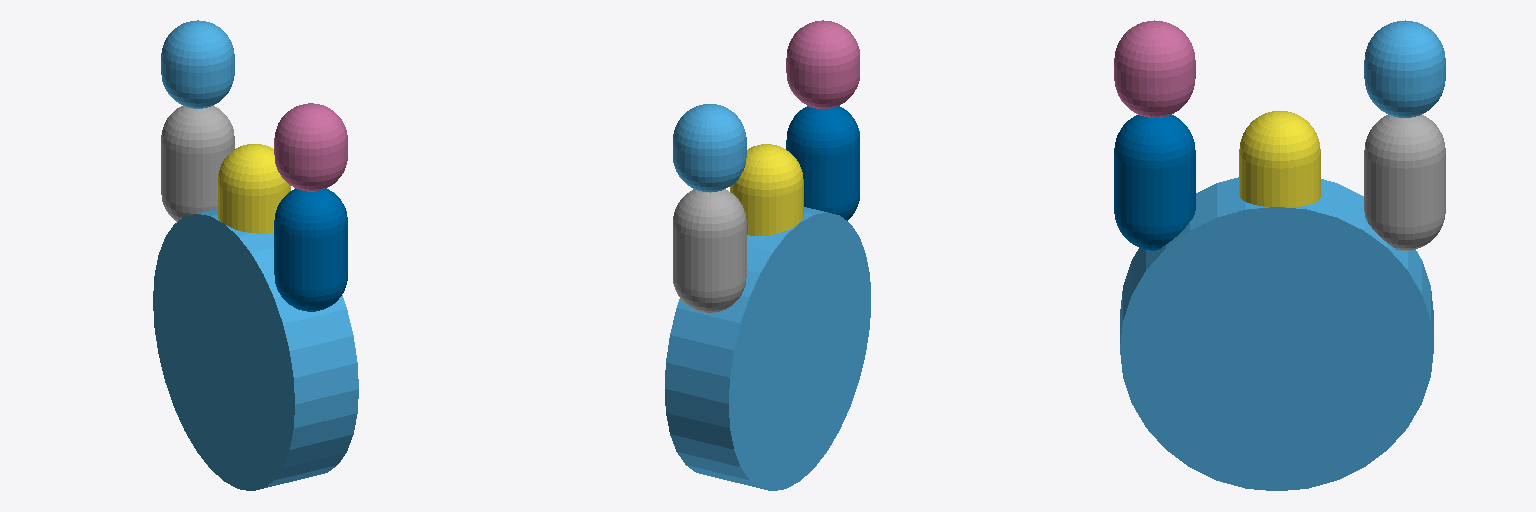
robot.urdf — DexterousHand:
<?xml version="1.0"?>
<robot name="DexterousHand">


    <link name="world"/>
    <joint name="world_to_palm" type="fixed">
        <parent link="world"/>
        <child link="palm"/>
        <origin xyz="0 0 0" rpy="0 0 0"/>
    </joint>
    <link name="palm">
        <inertial>
            <origin xyz="0 0 0.057" rpy="0 0 0"/>
            <mass value="0.30212892864"/>
            <inertia ixx="0.00049080844457568" ixy="0.0" ixz="0.0" iyy="0.00026746366246427523" iyz="0.0" izz="0.00026746366246427523"/>
        </inertial>
        <visual>
            <origin xyz="0 0 0.057" rpy="1.5708 0 1.5708"/>
            <geometry>
                <cylinder radius="0.057" length="0.0296"/>
            </geometry>
            <material name="default"/>
        </visual>
        <collision>
            <origin xyz="0 0 0.057" rpy="1.5708 0 1.5708"/>
            <geometry>
                <cylinder radius="0.057" length="0.0296"/>
            </geometry>
        </collision>
    </link>

    
    <joint name="thumb_joint1" type="revolute">
        <parent link="palm"/>
        <child link="thumb_base"/>
        <origin xyz="0.0 0.0 0.0" rpy="0.0 0.0 0.0"/>
        <axis xyz="1 0 0"/>
        <limit lower="0.0" upper="0.0" effort="1.0" velocity="1.0"/>
    </joint>

    <link name="thumb_base"></link>

    <joint name="thumb_joint2" type="revolute">
        <parent link="thumb_base"/>
        <child link="thumb_proximal"/>
        <origin xyz="0.0 0.0 0.0" rpy="0.0 0.0 0.0"/>
        <axis xyz="0 1 0"/>
        <limit lower="0.0" upper="0.0" effort="1.0" velocity="1.0"/>
    </joint>

    <link name="thumb_proximal">
    </link>

    <joint name="thumb_joint3" type="revolute">
        <parent link="thumb_proximal"/>
        <child link="thumb_knuckle"/>
        <origin xyz="0.0 0.0 0.0" rpy="0.0 0.0 0.0"/>
        <axis xyz="1 0 0"/>
        <limit lower="0.0" upper="0.0" effort="1.0" velocity="1.0"/>
    </joint>

    <link name="thumb_knuckle"></link>

    <joint name="thumb_joint4" type="revolute">
        <parent link="thumb_knuckle"/>
        <child link="thumb_middle"/>
        <origin xyz="0 0 0" rpy="0 0 0"/> 
        <axis xyz="0 1 0"/>
        <limit lower="0.0" upper="0.0" effort="1.0" velocity="1.0"/>
    </joint>

    <link name="thumb_middle">
    </link>

    <joint name="thumb_joint5" type="revolute">
        <parent link="thumb_middle"/>
        <child link="thumb_distal"/>
        <origin xyz="0 0 0" rpy="0 0 0"/> 
        <axis xyz="0 1 0"/>
        <limit lower="0.0" upper="0.0" effort="1.0" velocity="1.0"/>
    </joint>

    <link name="thumb_distal">
    </link>

    
    <joint name="index_joint1" type="revolute">
        <parent link="palm"/>
        <child link="index_proximal"/>
        <origin xyz="0.0 0.0465 0.091" rpy="0.0 0.0 0.0"/>
        <axis xyz="0 1 0"/>
        <limit lower="-0.314" upper="2.23" effort="1.0" velocity="1.0"/>
    </joint>

    <link name="index_proximal">
        <inertial>
            <origin xyz="0 0 0.02655" rpy="0 0 0"/>
            <mass value="0.036540024998400006"/>
            <inertia ixx="1.058665009272394e-05" ixy="0.0" ixz="0.0" 
            iyy="1.058665009272394e-05" iyz="0.0" izz="4.001863537824769e-06"/>
        </inertial>
        <visual>
            <origin xyz="0 0 0.02655" rpy="0 0 0"/>
            <geometry>
                <cylinder radius="0.0148" length="0.0235"/>
            </geometry>
            <material name="default"/>
        </visual>
        <visual>
            <origin xyz="0 0 0.0148" rpy="0 0 0"/>
            <geometry>
                <sphere radius="0.0148"/>
            </geometry>
            <material name="default"/>
        </visual>
        <visual>
            <origin xyz="0 0 0.0383" rpy="0 0 0"/>
            <geometry>
                <sphere radius="0.0148"/>
            </geometry>
            <material name="default"/>
        </visual>
        <collision>
            <origin xyz="0 0 0.02655" rpy="0 0 0"/>
            <geometry>
                <cylinder radius="0.0148" length="0.0235"/>
            </geometry>
        </collision>
        <collision>
            <origin xyz="0 0 0.0148" rpy="0 0 0"/>
            <geometry>
                <sphere radius="0.0148"/>
            </geometry>
        </collision>
        <collision>
            <origin xyz="0 0 0.0383" rpy="0 0 0"/>
            <geometry>
                <sphere radius="0.0148"/>
            </geometry>
        </collision>
    </link>

    <joint name="index_joint2" type="revolute">
        <parent link="index_proximal"/>
        <child link="index_dummy"/>
        <origin xyz="0.0 0.0 0.038" rpy="0.0 0.0 0.0"/>
        <axis xyz="1 0 0"/>
        <limit lower="-1.047" upper="1.047" effort="1.0" velocity="1.0"/>
    </joint>

    <link name="index_dummy"></link>

    <joint name="index_joint3" type="revolute">
        <parent link="index_dummy"/>
        <child link="index_middle"/>
        <origin xyz="0 0 0.015100000000000002" rpy="0 0 0"/>
        <axis xyz="0 1 0"/>
        <limit lower="-0.506" upper="1.885" effort="1.0" velocity="1.0"/>
    </joint>

    <link name="index_middle">
        <inertial>
            <origin xyz="0 0 0.01805" rpy="0 0 0"/>
            <mass value="0.0248417119104"/>
            <inertia ixx="4.058162759109537e-06" ixy="0.0" ixz="0.0" 
            iyy="4.058162759109537e-06" iyz="0.0" izz="2.7206642884270085e-06"/>
        </inertial>
        <visual>
            <origin xyz="0 0 0.01805" rpy="0 0 0"/>
            <geometry>
                <cylinder radius="0.0148" length="0.006499999999999999"/>
            </geometry>
            <material name="default"/>
        </visual>
        <visual>
            <origin xyz="0 0 0.0148" rpy="0 0 0"/>
            <geometry>
                <sphere radius="0.0148"/>
            </geometry>
            <material name="default"/>
        </visual>
        <visual>
            <origin xyz="0 0 0.0213" rpy="0 0 0"/>
            <geometry>
                <sphere radius="0.0148"/>
            </geometry>
            <material name="default"/>
        </visual>
        <collision>
            <origin xyz="0 0 0.01805" rpy="0 0 0"/>
            <geometry>
                <cylinder radius="0.0148" length="0.006499999999999999"/>
            </geometry>
        </collision>
        <collision>
            <origin xyz="0 0 0.0148" rpy="0 0 0"/>
            <geometry>
                <sphere radius="0.0148"/>
            </geometry>
        </collision>
        <collision>
            <origin xyz="0 0 0.0213" rpy="0 0 0"/>
            <geometry>
                <sphere radius="0.0148"/>
            </geometry>
        </collision>
    </link>

    <joint name="index_joint4" type="revolute">
        <parent link="index_middle"/>
        <child link="index_distal"/>
        <origin xyz="0 0 0.0361" rpy="0 0 0"/> 
        <axis xyz="0 1 0"/>
        <limit lower="0.0" upper="0.0" effort="1.0" velocity="1.0"/>
    </joint>

    <link name="index_distal">
    </link>

    
    <joint name="middle_joint1" type="revolute">
        <parent link="palm"/>
        <child link="middle_proximal"/>
        <origin xyz="0.0 0.0011 0.091" rpy="0.0 0.0 0.0"/>
        <axis xyz="0 1 0"/>
        <limit lower="-0.314" upper="2.23" effort="1.0" velocity="1.0"/>
    </joint>

    <link name="middle_proximal">
        <inertial>
            <origin xyz="0 0 0.02655" rpy="0 0 0"/>
            <mass value="0.036540024998400006"/>
            <inertia ixx="1.058665009272394e-05" ixy="0.0" ixz="0.0" 
            iyy="1.058665009272394e-05" iyz="0.0" izz="4.001863537824769e-06"/>
        </inertial>
        <visual>
            <origin xyz="0 0 0.02655" rpy="0 0 0"/>
            <geometry>
                <cylinder radius="0.0148" length="0.0235"/>
            </geometry>
            <material name="default"/>
        </visual>
        <visual>
            <origin xyz="0 0 0.0148" rpy="0 0 0"/>
            <geometry>
                <sphere radius="0.0148"/>
            </geometry>
            <material name="default"/>
        </visual>
        <visual>
            <origin xyz="0 0 0.0383" rpy="0 0 0"/>
            <geometry>
                <sphere radius="0.0148"/>
            </geometry>
            <material name="default"/>
        </visual>
        <collision>
            <origin xyz="0 0 0.02655" rpy="0 0 0"/>
            <geometry>
                <cylinder radius="0.0148" length="0.0235"/>
            </geometry>
        </collision>
        <collision>
            <origin xyz="0 0 0.0148" rpy="0 0 0"/>
            <geometry>
                <sphere radius="0.0148"/>
            </geometry>
        </collision>
        <collision>
            <origin xyz="0 0 0.0383" rpy="0 0 0"/>
            <geometry>
                <sphere radius="0.0148"/>
            </geometry>
        </collision>
    </link>

    <joint name="middle_joint2" type="revolute">
        <parent link="middle_proximal"/>
        <child link="middle_dummy"/>
        <origin xyz="0.0 0.0 0.038" rpy="0.0 0.0 0.0"/>
        <axis xyz="0 1 0"/>
        <limit lower="0.0" upper="0.0" effort="1.0" velocity="1.0"/>
    </joint>

    <link name="middle_dummy"></link>

    <joint name="middle_joint3" type="revolute">
        <parent link="middle_dummy"/>
        <child link="middle_middle"/>
        <origin xyz="0 0 0.015100000000000002" rpy="0 0 0"/>
        <axis xyz="0 1 0"/>
        <limit lower="0.0" upper="0.0" effort="1.0" velocity="1.0"/>
    </joint>

    <link name="middle_middle">
    </link>

    <joint name="middle_joint4" type="revolute">
        <parent link="middle_middle"/>
        <child link="middle_distal"/>
        <origin xyz="0 0 0" rpy="0 0 0"/> 
        <axis xyz="0 1 0"/>
        <limit lower="0.0" upper="0.0" effort="1.0" velocity="1.0"/>
    </joint>

    <link name="middle_distal">
    </link>

    
    <joint name="ring_joint1" type="revolute">
        <parent link="palm"/>
        <child link="ring_proximal"/>
        <origin xyz="0.0 0.0 0.0" rpy="0.0 0.0 0.0"/>
        <axis xyz="1 0 0"/>
        <limit lower="0.0" upper="0.0" effort="1.0" velocity="1.0"/>
    </joint>

    <link name="ring_proximal">
    </link>

    <joint name="ring_joint2" type="revolute">
        <parent link="ring_proximal"/>
        <child link="ring_dummy"/>
        <origin xyz="0.0 0.0 0.0" rpy="0.0 0.0 0.0"/>
        <axis xyz="0 1 0"/>
        <limit lower="0.0" upper="0.0" effort="1.0" velocity="1.0"/>
    </joint>

    <link name="ring_dummy"></link>

    <joint name="ring_joint3" type="revolute">
        <parent link="ring_dummy"/>
        <child link="ring_middle"/>
        <origin xyz="0 0 0" rpy="0 0 0"/>
        <axis xyz="0 1 0"/>
        <limit lower="0.0" upper="0.0" effort="1.0" velocity="1.0"/>
    </joint>

    <link name="ring_middle">
    </link>

    <joint name="ring_joint4" type="revolute">
        <parent link="ring_middle"/>
        <child link="ring_distal"/>
        <origin xyz="0 0 0" rpy="0 0 0"/> 
        <axis xyz="0 1 0"/>
        <limit lower="0.0" upper="0.0" effort="1.0" velocity="1.0"/>
    </joint>

    <link name="ring_distal">
    </link>

    
    <joint name="little_joint0" type="revolute">
        <parent link="palm"/>
        <child link="little_base"/>
        <origin xyz="0.0 0.0 0.0" rpy="0.0 0.0 0.0"/>
        <axis xyz="0 1 0"/>
        <limit lower="0.0" upper="0.0" effort="1.0" velocity="1.0"/>
    </joint>

    <link name="little_base"></link>

    <joint name="little_joint1" type="revolute">
        <parent link="little_base"/>
        <child link="little_proximal"/>
        <origin xyz="0.0 -0.0443 0.091" rpy="-0.0 -0.0 -0.0"/>
        <axis xyz="0 1 0"/>
        <limit lower="-0.314" upper="2.23" effort="1.0" velocity="1.0"/>
    </joint>

    <link name="little_proximal">
        <inertial>
            <origin xyz="0 0 0.02655" rpy="0 0 0"/>
            <mass value="0.036540024998400006"/>
            <inertia ixx="1.058665009272394e-05" ixy="0.0" ixz="0.0" 
            iyy="1.058665009272394e-05" iyz="0.0" izz="4.001863537824769e-06"/>
        </inertial>
        <visual>
            <origin xyz="0 0 0.02655" rpy="0 0 0"/>
            <geometry>
                <cylinder radius="0.0148" length="0.0235"/>
            </geometry>
            <material name="default"/>
        </visual>
        <visual>
            <origin xyz="0 0 0.0148" rpy="0 0 0"/>
            <geometry>
                <sphere radius="0.0148"/>
            </geometry>
            <material name="default"/>
        </visual>
        <visual>
            <origin xyz="0 0 0.0383" rpy="0 0 0"/>
            <geometry>
                <sphere radius="0.0148"/>
            </geometry>
            <material name="default"/>
        </visual>
        <collision>
            <origin xyz="0 0 0.02655" rpy="0 0 0"/>
            <geometry>
                <cylinder radius="0.0148" length="0.0235"/>
            </geometry>
        </collision>
        <collision>
            <origin xyz="0 0 0.0148" rpy="0 0 0"/>
            <geometry>
                <sphere radius="0.0148"/>
            </geometry>
        </collision>
        <collision>
            <origin xyz="0 0 0.0383" rpy="0 0 0"/>
            <geometry>
                <sphere radius="0.0148"/>
            </geometry>
        </collision>
    </link>

    <joint name="little_joint2" type="revolute">
        <parent link="little_proximal"/>
        <child link="little_dummy"/>
        <origin xyz="0.0 0.0 0.038" rpy="0.0 0.0 0.0"/>
        <axis xyz="1 0 0"/>
        <limit lower="-1.047" upper="1.047" effort="1.0" velocity="1.0"/>
    </joint>

    <link name="little_dummy"></link>

    <joint name="little_joint3" type="revolute">
        <parent link="little_dummy"/>
        <child link="little_middle"/>
        <origin xyz="0 0 0.015100000000000002" rpy="0 0 0"/>
        <axis xyz="0 1 0"/>
        <limit lower="-0.506" upper="1.885" effort="1.0" velocity="1.0"/>
    </joint>

    <link name="little_middle">
        <inertial>
            <origin xyz="0 0 0.01805" rpy="0 0 0"/>
            <mass value="0.0248417119104"/>
            <inertia ixx="4.058162759109537e-06" ixy="0.0" ixz="0.0" 
            iyy="4.058162759109537e-06" iyz="0.0" izz="2.7206642884270085e-06"/>
        </inertial>
        <visual>
            <origin xyz="0 0 0.01805" rpy="0 0 0"/>
            <geometry>
                <cylinder radius="0.0148" length="0.006499999999999999"/>
            </geometry>
            <material name="default"/>
        </visual>
        <visual>
            <origin xyz="0 0 0.0148" rpy="0 0 0"/>
            <geometry>
                <sphere radius="0.0148"/>
            </geometry>
            <material name="default"/>
        </visual>
        <visual>
            <origin xyz="0 0 0.0213" rpy="0 0 0"/>
            <geometry>
                <sphere radius="0.0148"/>
            </geometry>
            <material name="default"/>
        </visual>
        <collision>
            <origin xyz="0 0 0.01805" rpy="0 0 0"/>
            <geometry>
                <cylinder radius="0.0148" length="0.006499999999999999"/>
            </geometry>
        </collision>
        <collision>
            <origin xyz="0 0 0.0148" rpy="0 0 0"/>
            <geometry>
                <sphere radius="0.0148"/>
            </geometry>
        </collision>
        <collision>
            <origin xyz="0 0 0.0213" rpy="0 0 0"/>
            <geometry>
                <sphere radius="0.0148"/>
            </geometry>
        </collision>
    </link>

    <joint name="little_joint4" type="revolute">
        <parent link="little_middle"/>
        <child link="little_distal"/>
        <origin xyz="0 0 0.0361" rpy="0 0 0"/>
        <axis xyz="0 1 0"/>
        <limit lower="0.0" upper="0.0" effort="1.0" velocity="1.0"/>
    </joint>

    <link name="little_distal">
    </link>

</robot>

--- Render facts (derived) ---
The picture shows the robot from 3 angles, left to right: view 1: azimuth 30°, elevation 25°; view 2: azimuth 150°, elevation 25°; view 3: azimuth 270°, elevation 25°; orthographic projection.
Model DexterousHand with 24 links and 23 joints (22 revolute, 1 fixed), rooted at world, posed all joints at 0.
Links seen in each view (by area): view 1: palm, little_proximal, index_proximal, little_middle, index_middle, middle_proximal; view 2: palm, index_proximal, little_proximal, index_middle, little_middle, middle_proximal; view 3: palm, index_proximal, little_proximal, middle_proximal, index_middle, little_middle.
Link boxes in pixels (left/top/right/bottom): palm: left=153, top=209, right=358, bottom=490; little_proximal: left=274, top=188, right=347, bottom=311; index_proximal: left=161, top=105, right=234, bottom=221; little_middle: left=274, top=103, right=347, bottom=191; index_middle: left=161, top=20, right=234, bottom=108; middle_proximal: left=218, top=144, right=290, bottom=233; palm: left=665, top=207, right=870, bottom=490; index_proximal: left=673, top=189, right=746, bottom=312; little_proximal: left=786, top=106, right=859, bottom=220; index_middle: left=673, top=104, right=746, bottom=192; little_middle: left=786, top=20, right=859, bottom=108; middle_proximal: left=730, top=144, right=803, bottom=235; palm: left=1120, top=177, right=1433, bottom=490; index_proximal: left=1364, top=115, right=1445, bottom=250; little_proximal: left=1114, top=115, right=1195, bottom=250; middle_proximal: left=1239, top=111, right=1320, bottom=206; index_middle: left=1364, top=20, right=1445, bottom=117; little_middle: left=1114, top=20, right=1195, bottom=117.
Size in the robot's own frame: 0.0296 by 0.1204 by 0.1802 metres.
Geometry: primitives only (box / cylinder / sphere), no mesh files.
